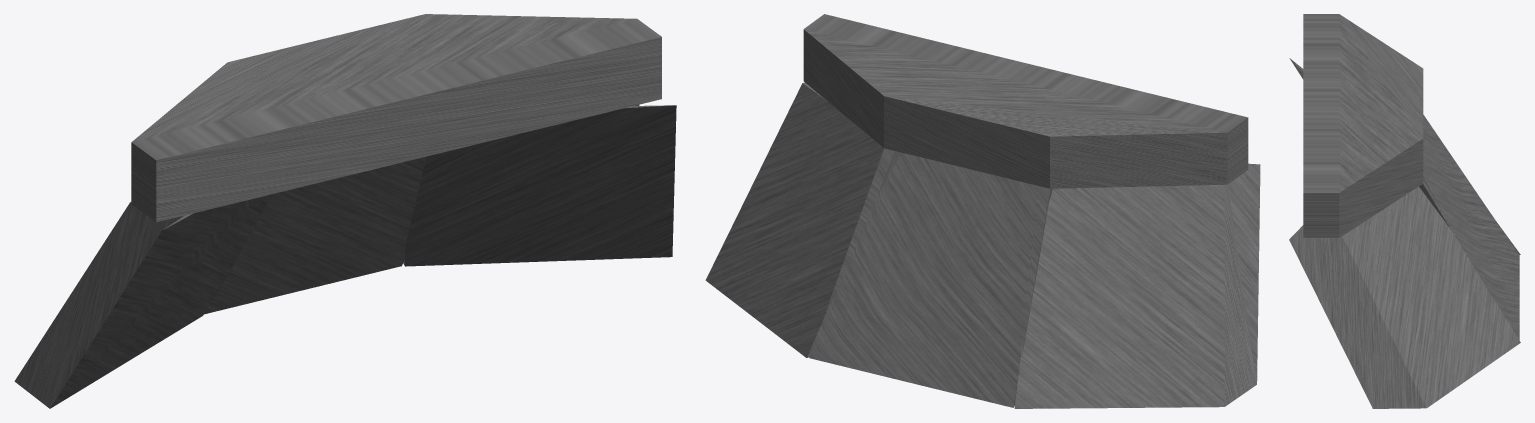
The model's file is mapbattlewall1.fbx.
3 views of the same model, side by side, from view 1: azimuth 30°, elevation 25°; view 2: azimuth 150°, elevation 25°; view 3: azimuth 270°, elevation 25° (orthographic). The views are drawn at different scales.
Parts seen in each view (by area): view 1: Cube.001; view 2: Cube.001; view 3: Cube.001.
Part boxes in pixels (<box>): Cube.001: <box>14,14,676,408</box>; Cube.001: <box>705,14,1260,408</box>; Cube.001: <box>1289,14,1520,408</box>.
Bounding box in the file's own units: 629 × 260 × 280.
